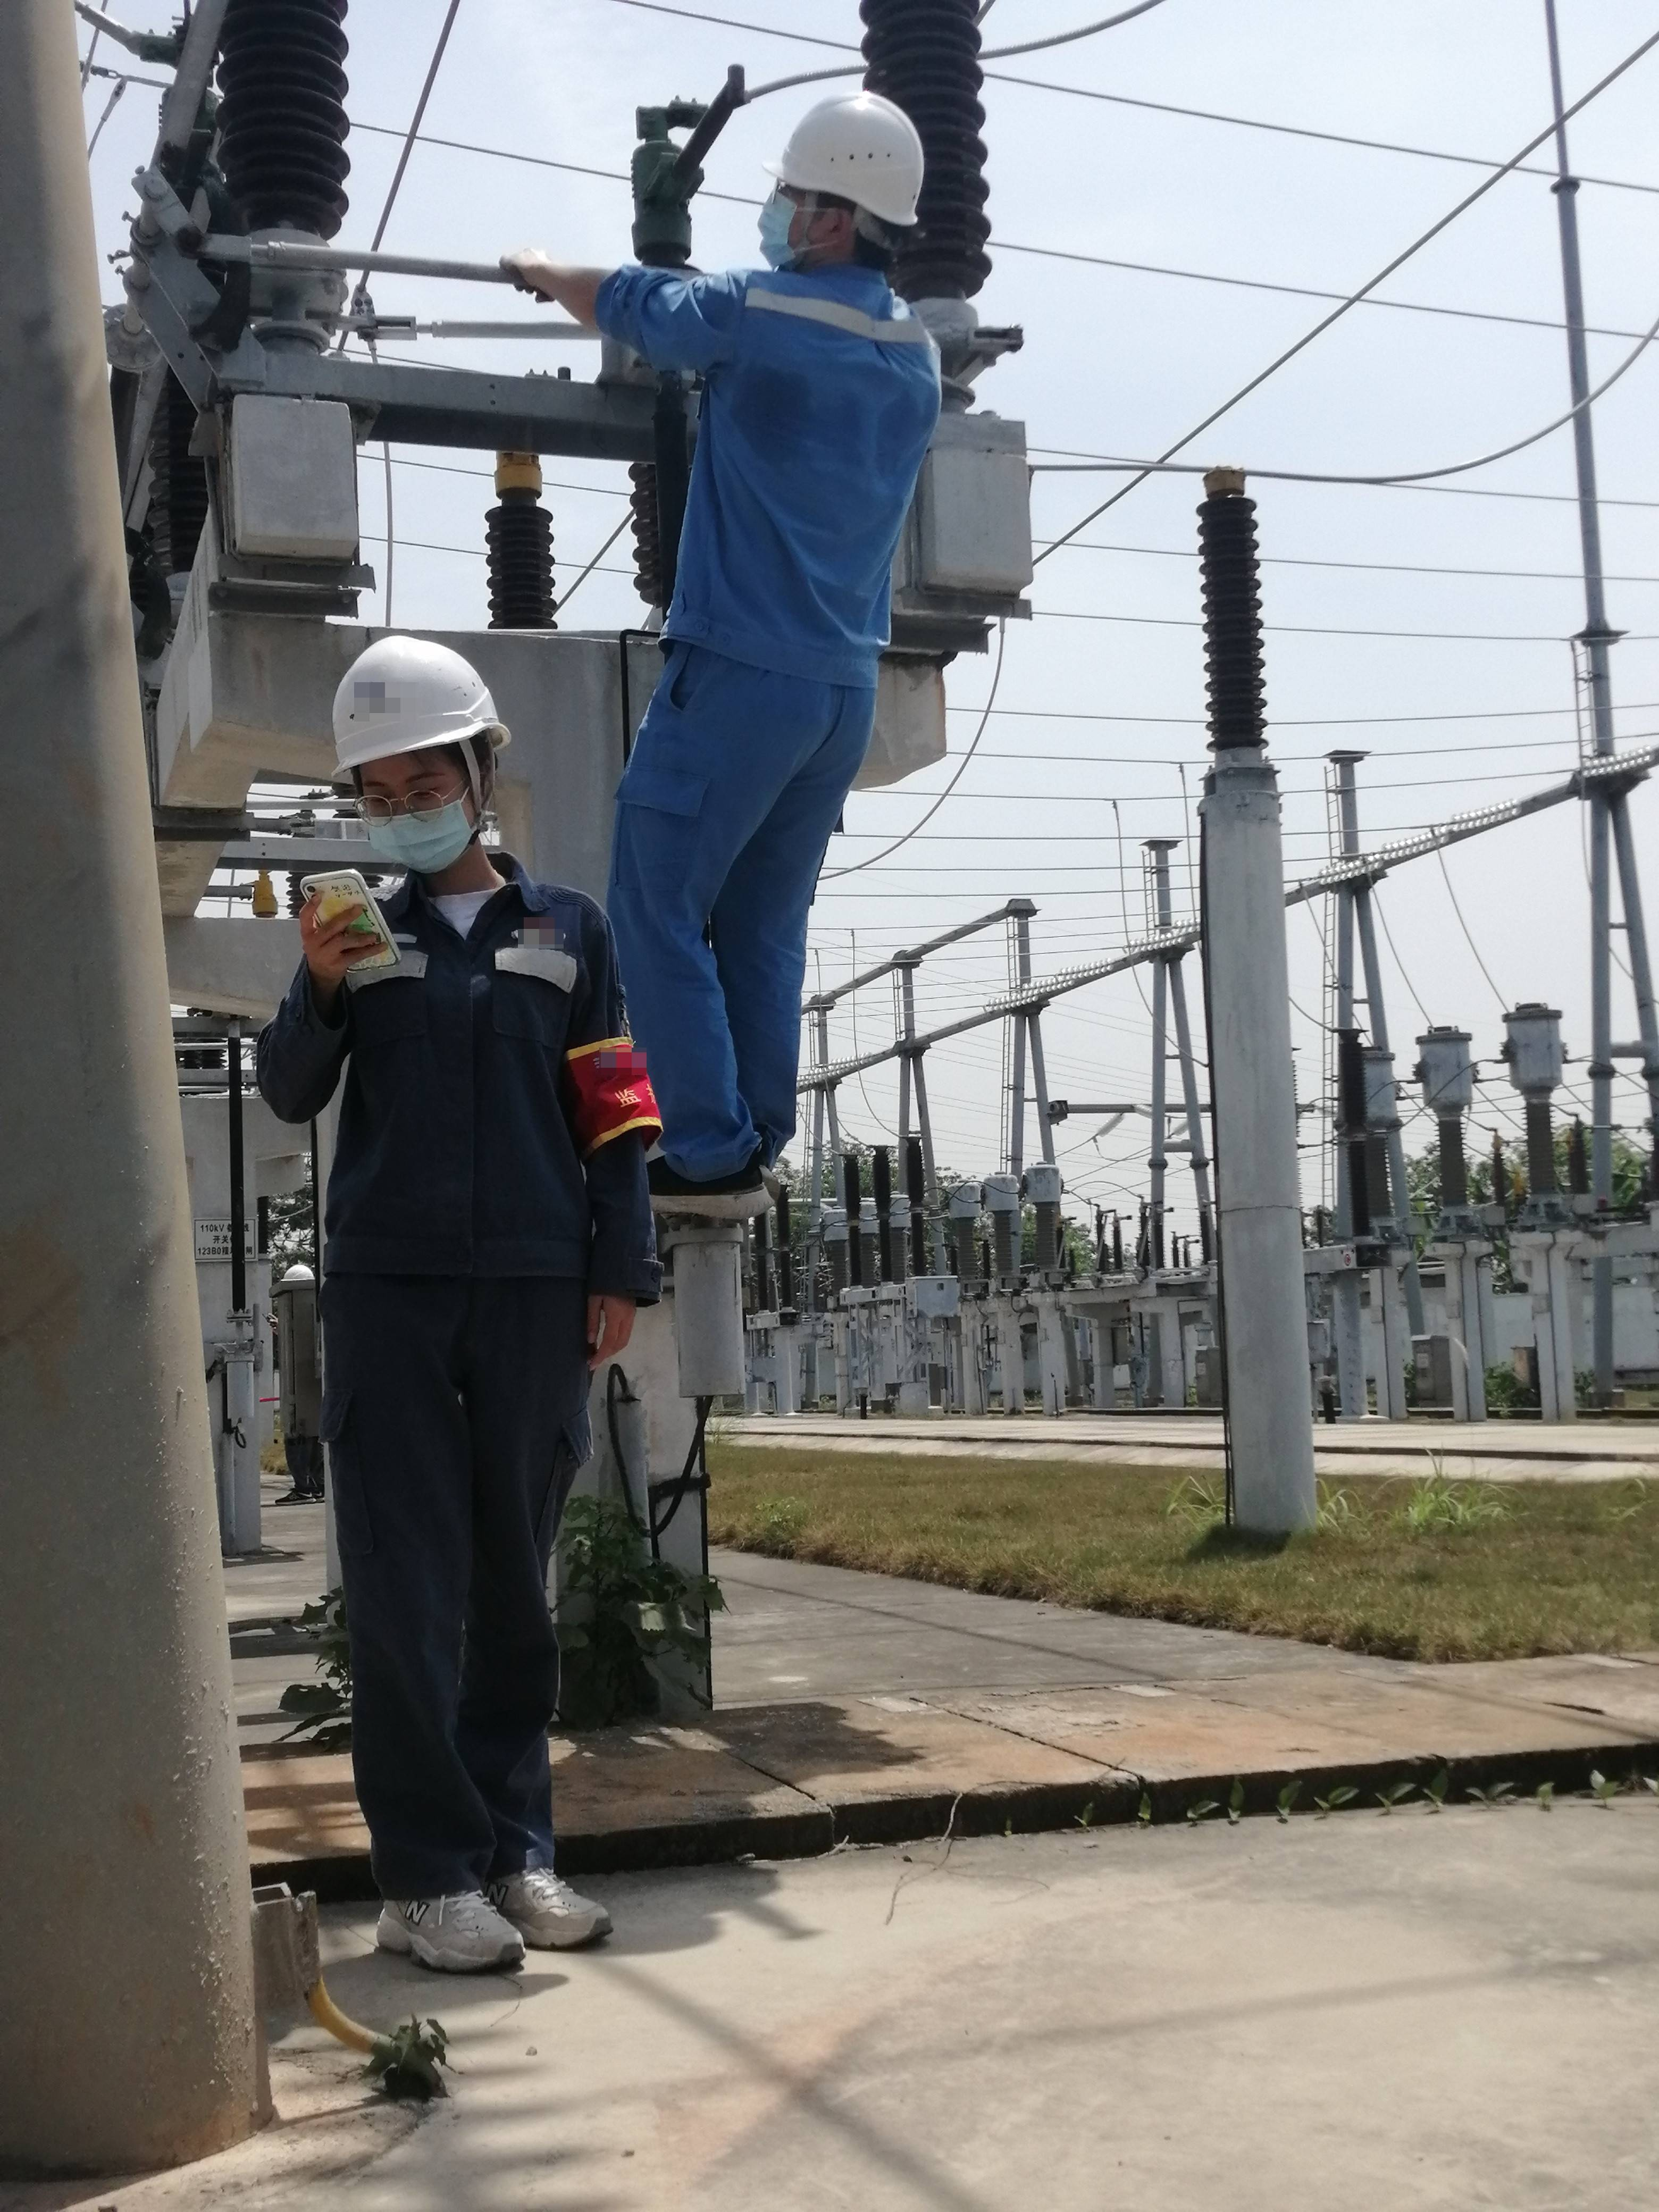downsuit: (315, 1301, 603, 1885), (626, 690, 868, 1169)
upsuit: (244, 866, 680, 1282), (610, 260, 951, 665)
wrongtop: (504, 242, 647, 343)
